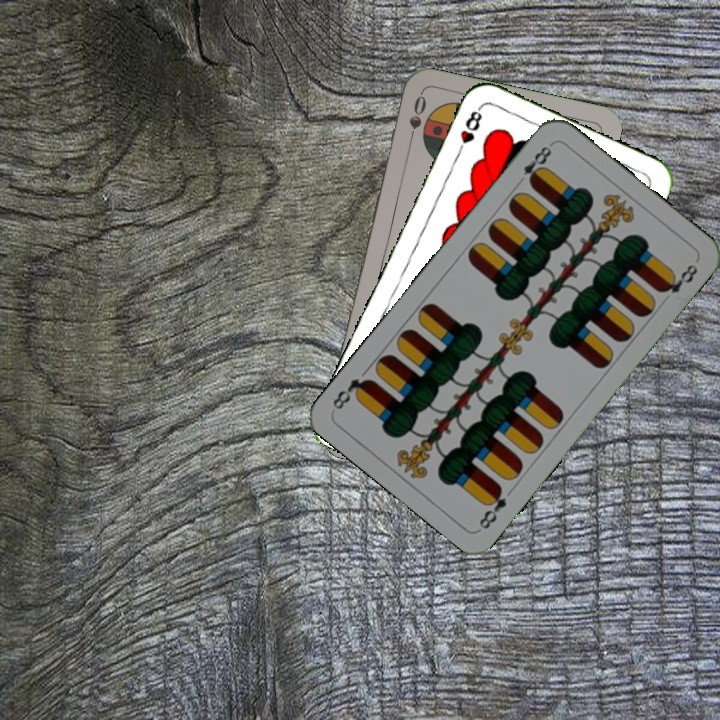E8: (512, 140, 555, 188), (475, 482, 509, 532)
H8: (453, 103, 485, 159)
SO: (404, 91, 429, 149)
